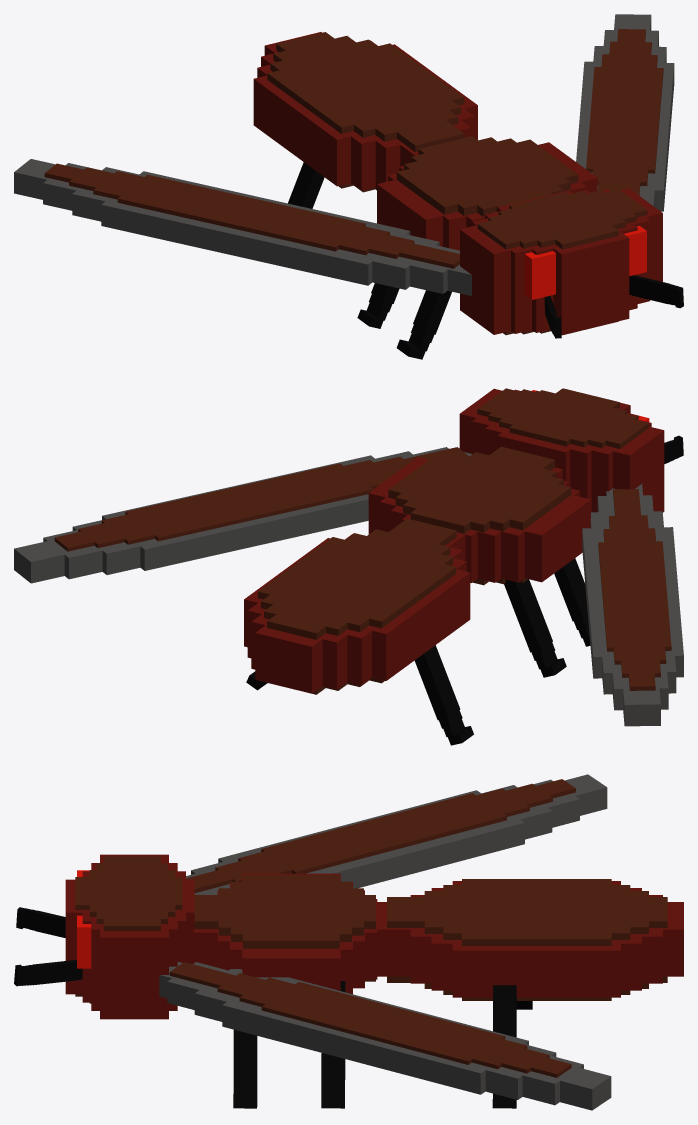
File: vuurtjevlieg.fbx
The picture shows the model from 3 angles, top to bottom: view 1: azimuth 30°, elevation 25°; view 2: azimuth 150°, elevation 25°; view 3: azimuth 270°, elevation 25°; orthographic projection.
Visible parts, largest first — view 1: Cube.001; view 2: Cube.001; view 3: Cube.001.
Boxes of the visible parts, bbox=[...] form: Cube.001: bbox=[14, 14, 683, 359]; Cube.001: bbox=[14, 388, 683, 745]; Cube.001: bbox=[14, 774, 683, 1110].
Size of the model in its own units: 757 by 181 by 681.
